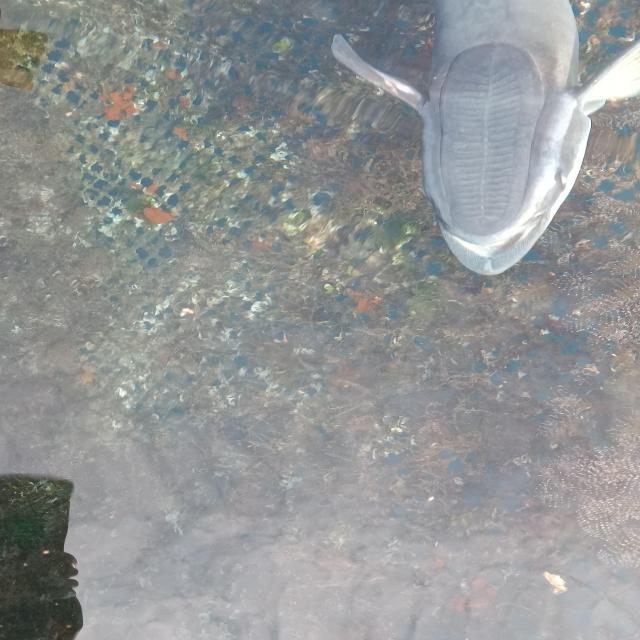ikan: (328, 0, 638, 277)
